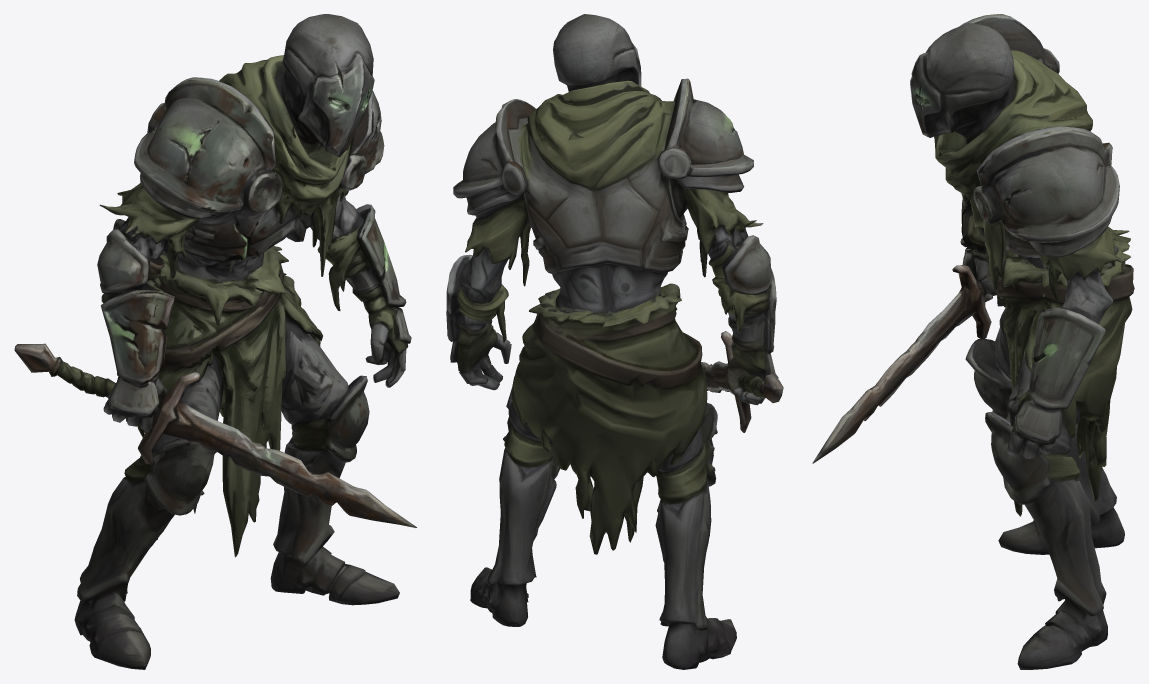
The model's file is rievocato.glb.
The picture shows the model from 3 angles, left to right: view 1: azimuth 30°, elevation 25°; view 2: azimuth 150°, elevation 25°; view 3: azimuth 270°, elevation 25°; orthographic projection. The views are drawn at different scales.
Visible parts, largest first — view 1: mesh_node; view 2: mesh_node; view 3: mesh_node.
Boxes of the visible parts, x1,y1,x2,y2 form: mesh_node: [14, 14, 416, 669]; mesh_node: [446, 14, 783, 669]; mesh_node: [812, 14, 1134, 669].
Size of the model in its own units: 1.21 by 1.9 by 0.9294.
Materials: 1 (1 with a texture image).
